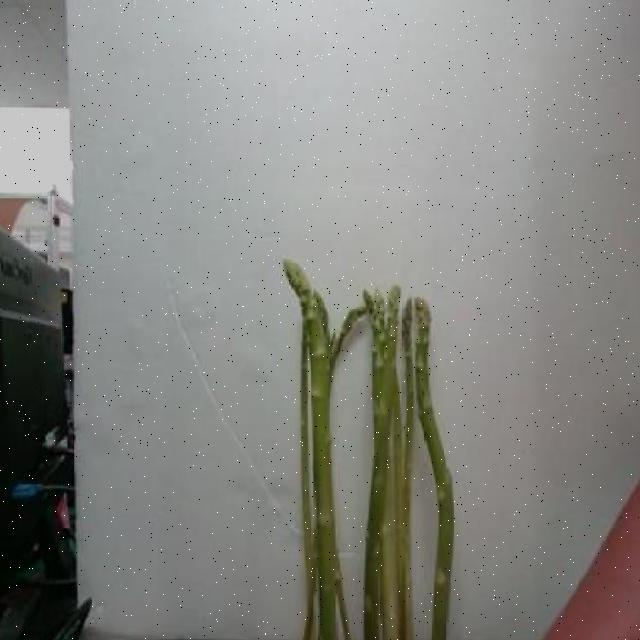aspargus: (277, 255, 341, 640), (408, 296, 461, 640)
